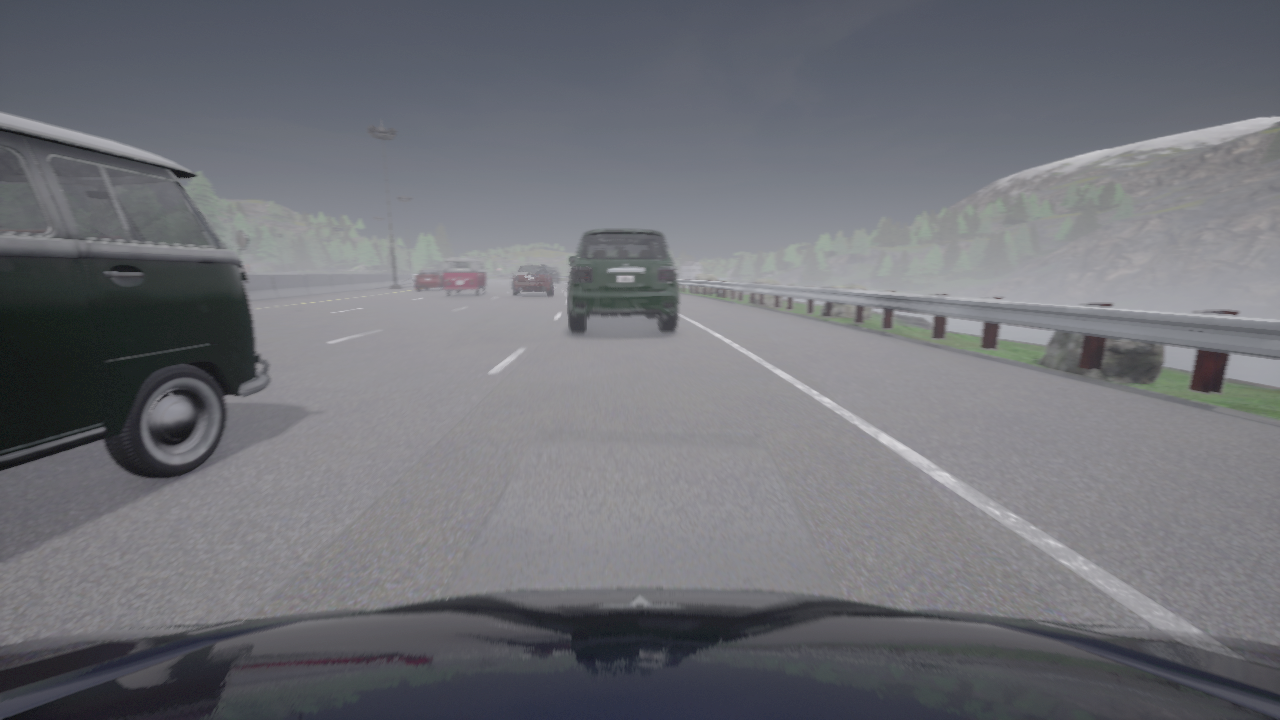cyclist: (0, 588, 1279, 719), (568, 229, 678, 332), (442, 258, 488, 296), (512, 264, 552, 295), (415, 269, 443, 290), (544, 266, 559, 282)
